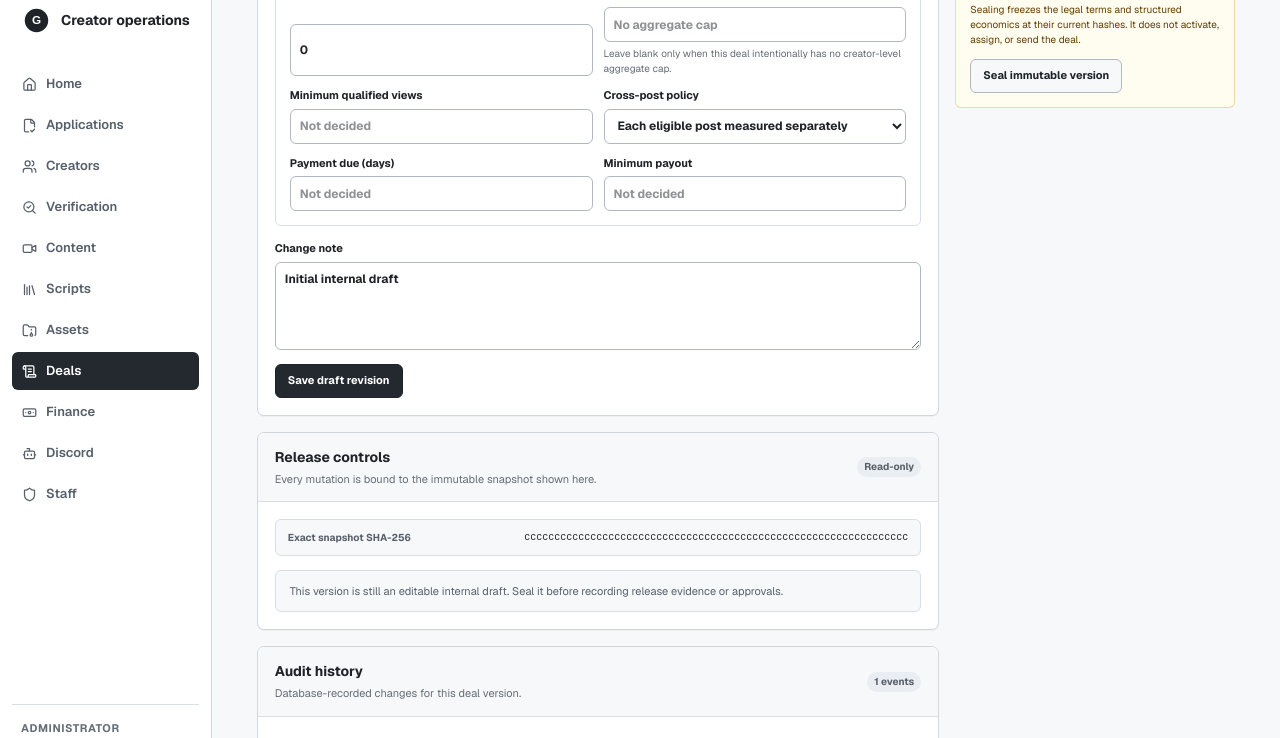
admin deal workspace › reports a rejected mutation without claiming a save or refreshing
(page scrolled)
Click the button "Save draft revision" at (339, 381), box [275,364,402,398]
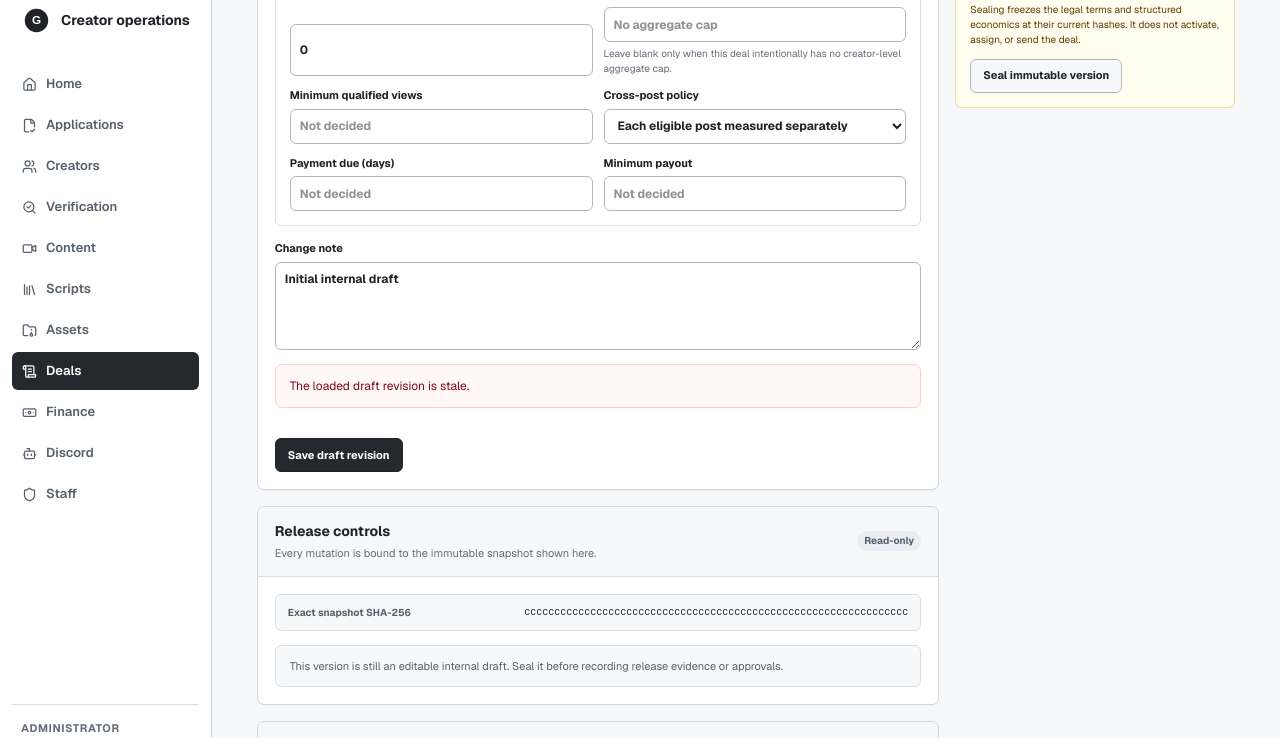
Expected: the message shows "draft revision is stale", [290,378,469,394]
